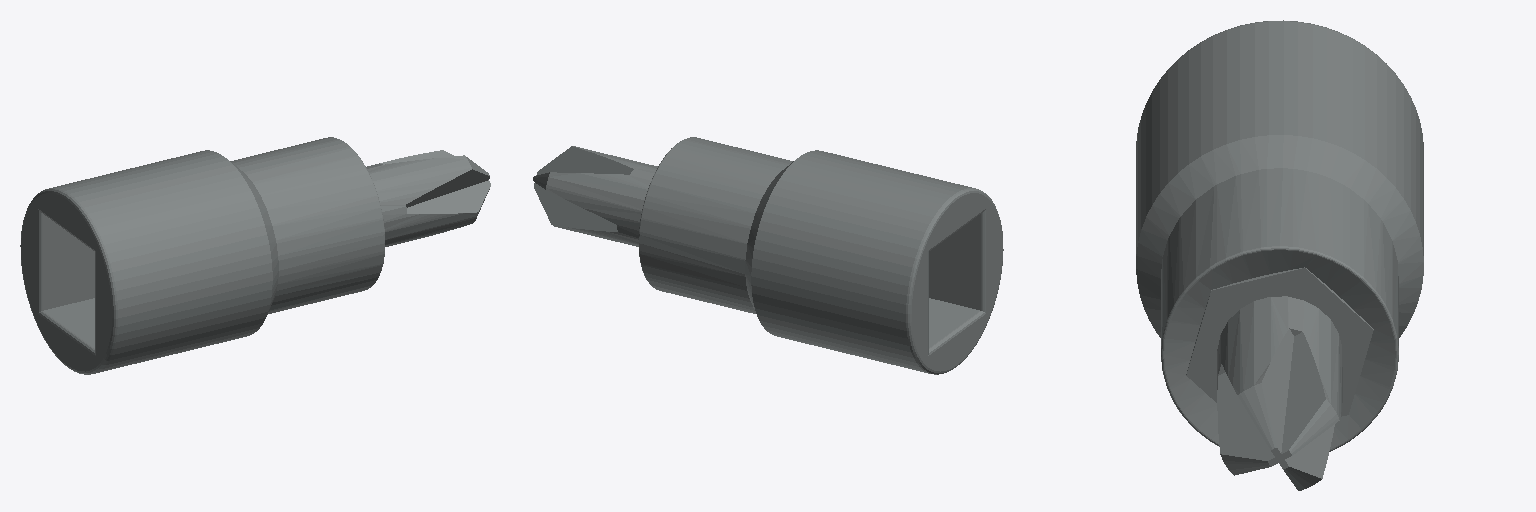
robot.urdf — cross_sleeve:
<?xml version="1.0" encoding="utf-8"?>
<!-- This URDF was automatically created by SolidWorks to URDF Exporter! Originally created by [author] ([email redacted]) 
     Commit Version: 1.6.0-4-g7f85cfe  Build Version: 1.6.7995.38578
     For more information, please see http://wiki.ros.org/sw_urdf_exporter -->
<robot
  name="cross_sleeve">
  <link
    name="cross_sleeve_base_link">
    <inertial>
      <origin
        xyz="-2.7756E-17 0 0"
        rpy="0 0 0" />
      <mass
        value="0.037112" />
      <inertia
        ixx="1.2806E-06"
        ixy="3.6954E-13"
        ixz="1.3504E-13"
        iyy="3.7554E-06"
        iyz="-1.8927E-13"
        izz="3.7554E-06" />
    </inertial>
    <visual>
      <origin
        xyz="0 0 0"
        rpy="0 0 0" />
      <geometry>
        <mesh
          filename="package://cross_sleeve/meshes/cross_sleeve_base_link.dae" />
      </geometry>
      <material
        name="">
        <color
          rgba="0.52941 0.54902 0.54902 1" />
      </material>
    </visual>
    <collision>
      <origin
        xyz="0 0 0"
        rpy="0 0 0" />
      <geometry>
        <mesh
          filename="package://cross_sleeve/meshes/cross_sleeve_base_link.dae" />
      </geometry>
    </collision>
  </link>
</robot>

--- What the picture shows (computed from the rendered views, not written in the file) ---
The picture shows the robot from 3 angles, left to right: view 1: azimuth 30°, elevation 25°; view 2: azimuth 150°, elevation 25°; view 3: azimuth 270°, elevation 25°; orthographic projection.
Robot: cross_sleeve — 1 links, 0 joints (none); root link cross_sleeve_base_link; default pose: all joints at 0.
Visible links, largest first — view 1: cross_sleeve_base_link; view 2: cross_sleeve_base_link; view 3: cross_sleeve_base_link.
Link boxes in pixels (bbox=[...]): cross_sleeve_base_link: bbox=[20, 137, 490, 374]; cross_sleeve_base_link: bbox=[533, 137, 1003, 374]; cross_sleeve_base_link: bbox=[1136, 20, 1423, 490].
Size in the robot's own frame: 0.0585 by 0.023 by 0.023 metres.
1 mesh visuals loaded from 1 distinct referenced files (1 Collada DAE).